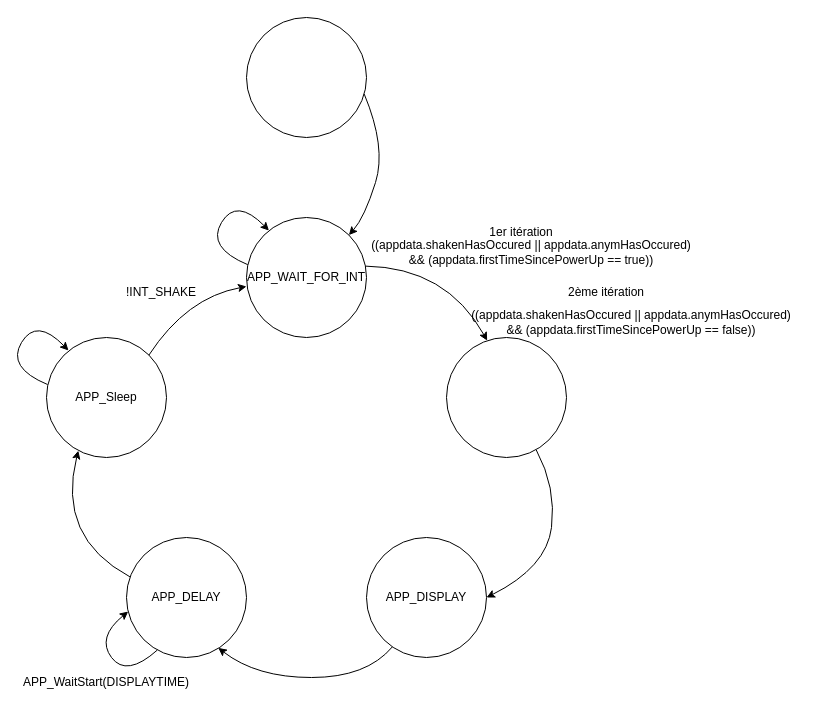
Some shapes in this 814 by 715 pixel diagram are drawn without their labels. The centre of each missing label's shape, as x and y in pixels:
"APP_CALC" goes at point 506,397.
"APP_INIT" goes at point 306,77.
